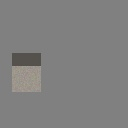supply_truck: (12, 53, 41, 92)
